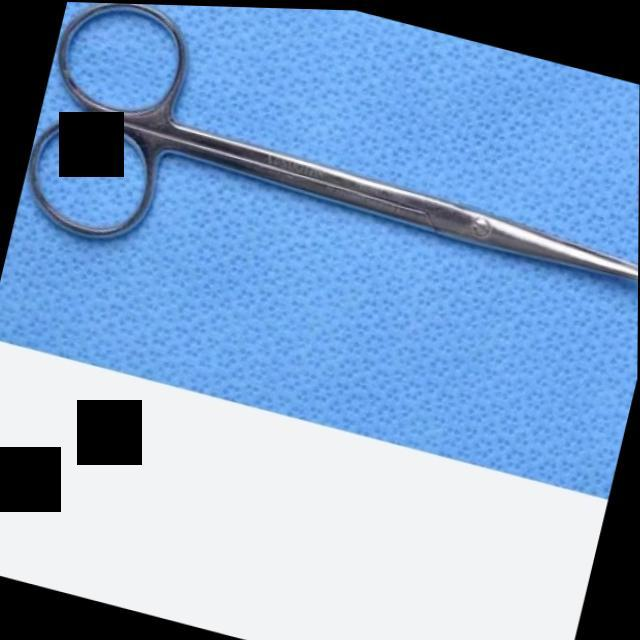Metzenbaum Sciccors: (10, 0, 640, 390)
